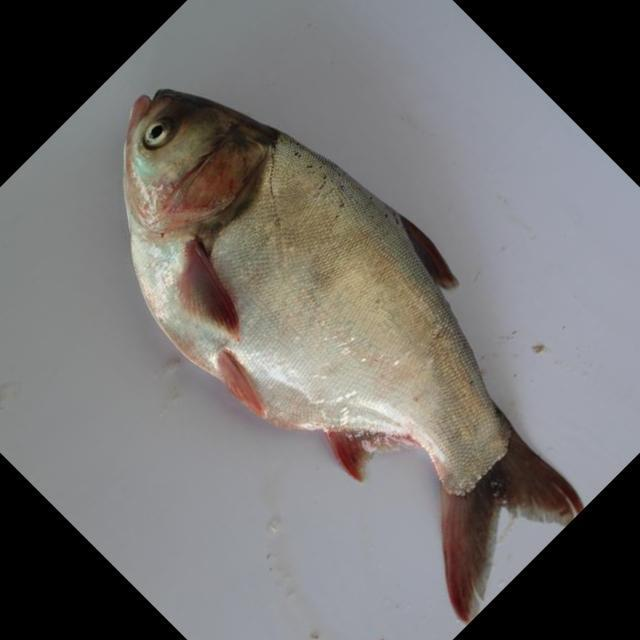SilverCarp: (117, 85, 595, 598)
